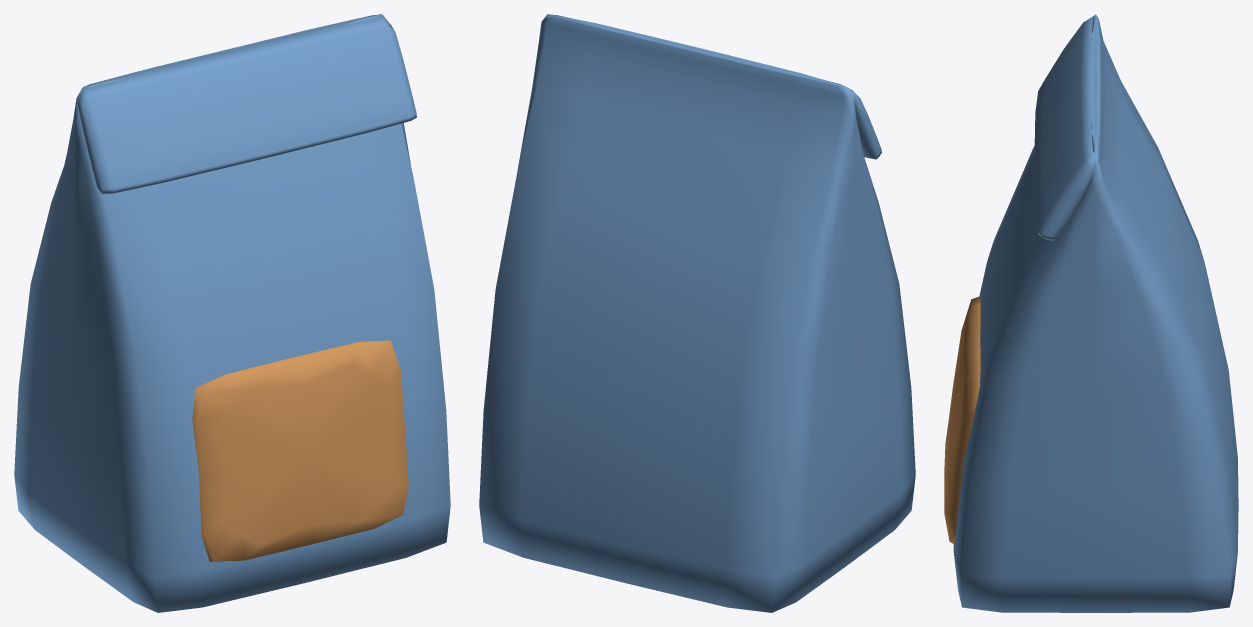
File: SM_coffee_pack_blue.glb
3 renders of one model, left to right at view 1: azimuth 30°, elevation 25°; view 2: azimuth 150°, elevation 25°; view 3: azimuth 270°, elevation 25°, orthographic. The views are drawn at different scales.
Visible parts, largest first — view 1: SM_coffee_pack_blue; view 2: SM_coffee_pack_blue; view 3: SM_coffee_pack_blue.
Boxes of the visible parts, <box> form: SM_coffee_pack_blue: <box>14,14,450,612</box>; SM_coffee_pack_blue: <box>479,14,915,612</box>; SM_coffee_pack_blue: <box>944,14,1238,612</box>.
Bounding box in the file's own units: 0.2654 × 0.3941 × 0.2238.
1 material, 1 textured.
